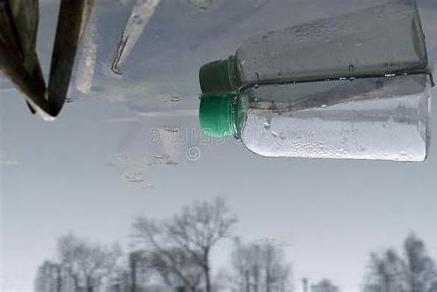Plastic: (196, 71, 432, 162)
